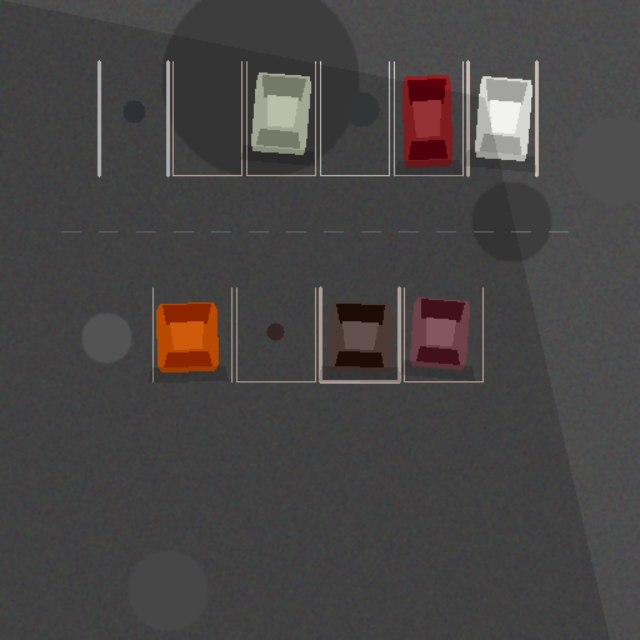space-empty: (99, 61, 168, 175), (172, 61, 241, 175), (320, 61, 389, 175), (236, 288, 315, 381)
space-occupied: (246, 61, 315, 175), (394, 61, 462, 175), (468, 61, 536, 175), (320, 288, 399, 381), (404, 288, 483, 381), (153, 288, 231, 381)
